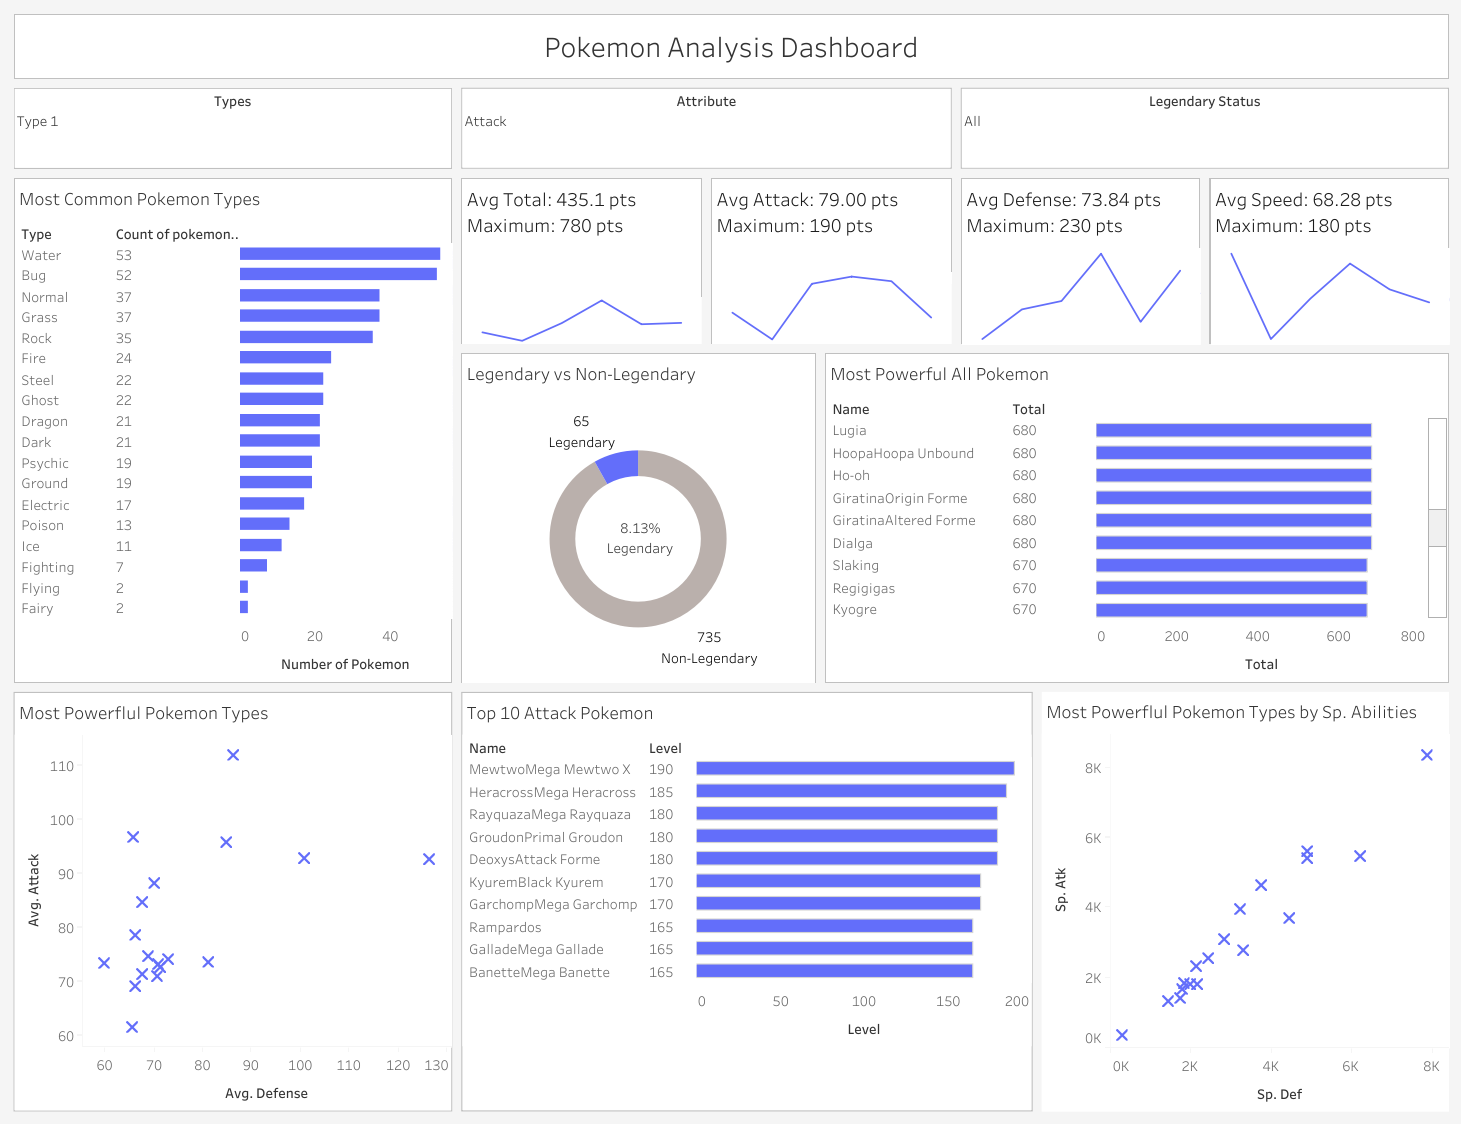

What the dashboard file says about the page in this screenshot:
{"tool":"tableau","page":{"name":"Pokemon Analysis Dashboard","canvas":[1300,1000],"ordinal":0},"visuals":[{"type":"title","box":[8,8,1284,66]},{"type":"parameter","param":"[Parameters].[Parameter 2]","box":[8,74,398,80]},{"type":"parameter","param":"[Parameters].[Parameter 1]","box":[406,74,444,80]},{"type":"filter","title":"Most Powerful Legendary Pokemon","param":"[federated.1kmyjtr0coyej411qynp51lwz5h5].[none:Legendary:nk]","box":[850,74,442,80]},{"type":"worksheet","title":"Most Common Pokemon Types","mark":"Automatic","rows":["Calculation_2518075153910439937","pokemon.csv_FE1731CDF8CC4045898B6233DF81EBB8"],"cols":["pokemon.csv_FE1731CDF8CC4045898B6233DF81EBB8"],"box":[8,154,398,457.4]},{"type":"worksheet","title":"Avg Total per Generation","mark":"Line","rows":["Total"],"cols":["Generation"],"box":[406,154,222,156]},{"type":"worksheet","title":"Avg Attack per Generation","mark":"Line","rows":["Attack"],"cols":["Generation"],"box":[628,154,222,156]},{"type":"worksheet","title":"Avg Defense per Generation","mark":"Line","rows":["Defense"],"cols":["Generation"],"box":[850,154,221,156]},{"type":"worksheet","title":"Avg Speed per Generation","mark":"Line","rows":["Speed"],"cols":["Generation"],"box":[1071,154,221,156]},{"type":"worksheet","title":"Legendary vs Non-Legendary","mark":"Pie","cols":["Calculation_2518075153926799370","Calculation_2518075153926799370"],"box":[406,310,323,301]},{"type":"worksheet","title":"Most Powerful Legendary Pokemon","mark":"Automatic","rows":["Name","Total"],"cols":["Total"],"box":[729,310,563,301]},{"type":"worksheet","title":"Legendary Status","mark":"Automatic","cols":["Legendary"],"box":[533,445,73,64]},{"type":"worksheet","title":"Most Powerflul Pokemon Types","mark":"Automatic","rows":["Attack"],"cols":["Defense"],"box":[8,611.4,398,380.6]},{"type":"worksheet","title":"Top 10 Pokemon by Attribute","mark":"Automatic","rows":["Name","Calculation_2518075153907834880"],"cols":["Calculation_2518075153907834880"],"box":[406,611.4,517.5,380.6]},{"type":"worksheet","title":"Most Powerflul Pokemon Types by Sp. Abilities","mark":"Automatic","rows":["Sp. Atk"],"cols":["Sp. Def"],"box":[923.5,611.4,368.5,380.6]}]}

Visuals, with their boxes in screenshot pixels (x1, y1, x2, y2), scaled from the page's 1300x1000 canvas onto the 1461x1124 screenshot:
title: detection(9, 9, 1452, 83)
parameter: detection(9, 83, 456, 173)
parameter: detection(456, 83, 955, 173)
"Most Powerful Legendary Pokemon" filter: detection(955, 83, 1452, 173)
"Most Common Pokemon Types" worksheet: detection(9, 173, 456, 687)
"Avg Total per Generation" worksheet (Line marks): detection(456, 173, 706, 348)
"Avg Attack per Generation" worksheet (Line marks): detection(706, 173, 955, 348)
"Avg Defense per Generation" worksheet (Line marks): detection(955, 173, 1204, 348)
"Avg Speed per Generation" worksheet (Line marks): detection(1204, 173, 1452, 348)
"Legendary vs Non-Legendary" worksheet (Pie marks): detection(456, 348, 819, 687)
"Most Powerful Legendary Pokemon" worksheet: detection(819, 348, 1452, 687)
"Legendary Status" worksheet: detection(599, 500, 681, 572)
"Most Powerflul Pokemon Types" worksheet: detection(9, 687, 456, 1115)
"Top 10 Pokemon by Attribute" worksheet: detection(456, 687, 1038, 1115)
"Most Powerflul Pokemon Types by Sp. Abilities" worksheet: detection(1038, 687, 1452, 1115)
